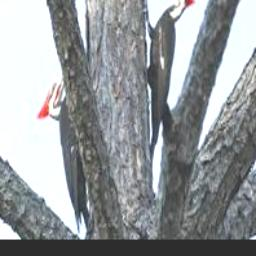Woodpecker: (36, 64, 89, 232), (142, 0, 194, 159)
